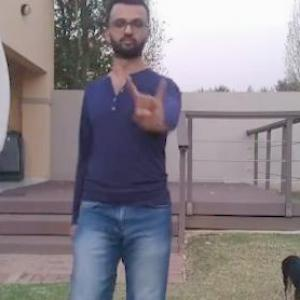takeoff-hand: (123, 63, 175, 130)
